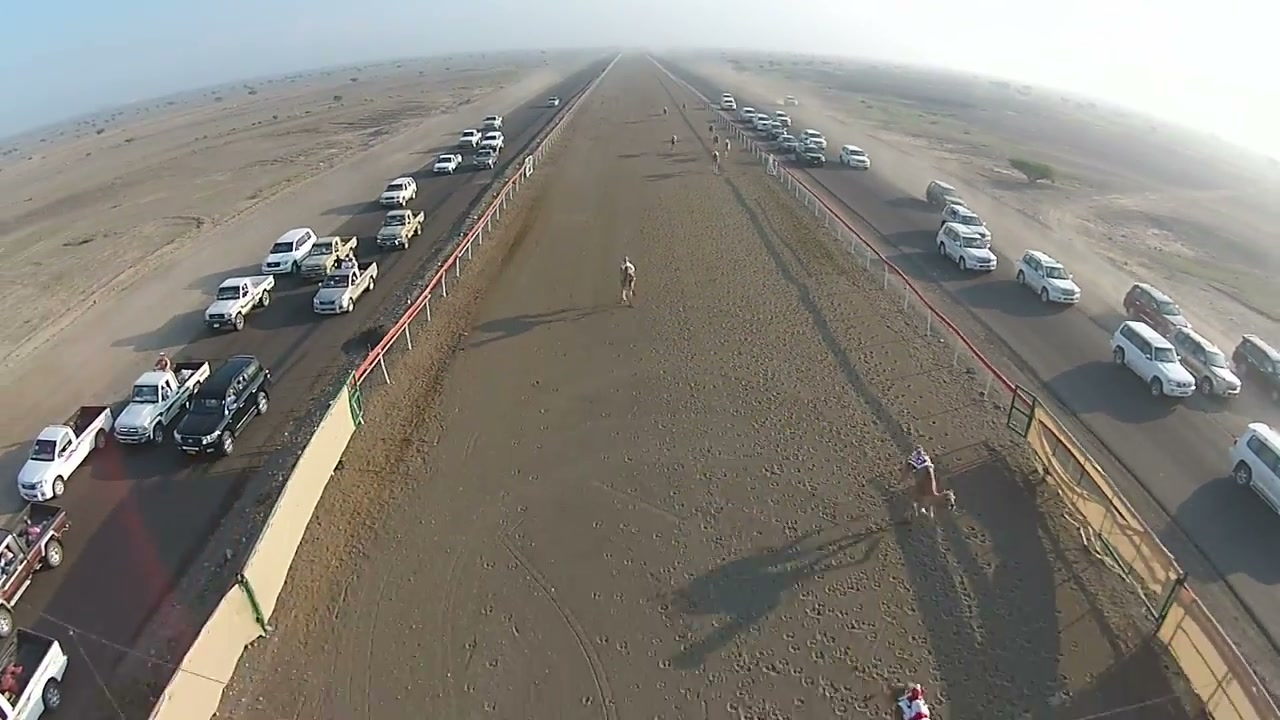animal_foot_print: (755, 322, 990, 719), (573, 320, 679, 691), (431, 473, 540, 719)
